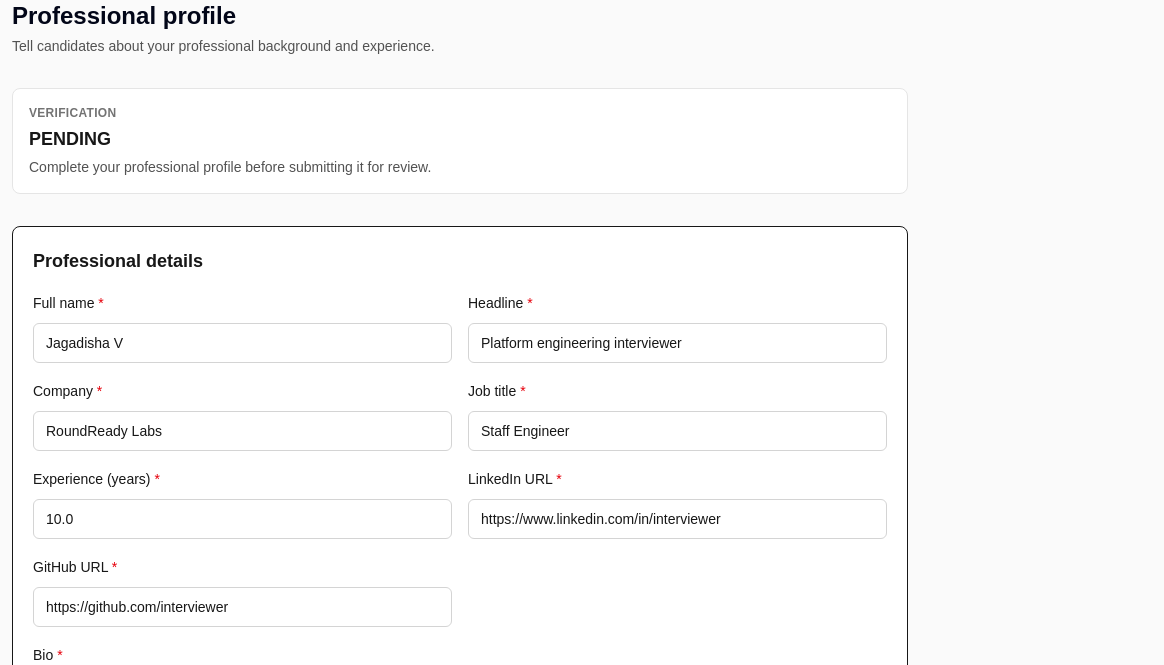
Test: InterviewerWorkspace › preserves profile input after an API error
The width and height of the screenshot is (1164, 665).
Replace the text in the field labelled "Headline" with "Keep this value" at (678, 343), box [468, 323, 887, 363]
(page scrolled)
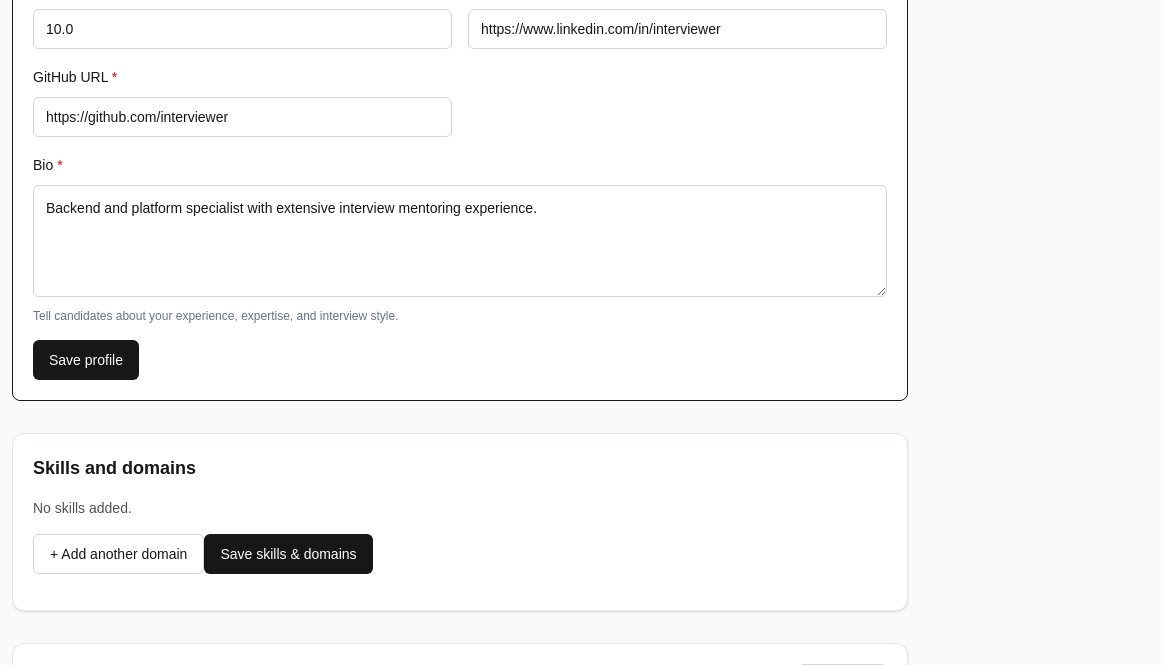
Click the button "Save profile" at (86, 360), box [33, 340, 139, 380]
(page scrolled)
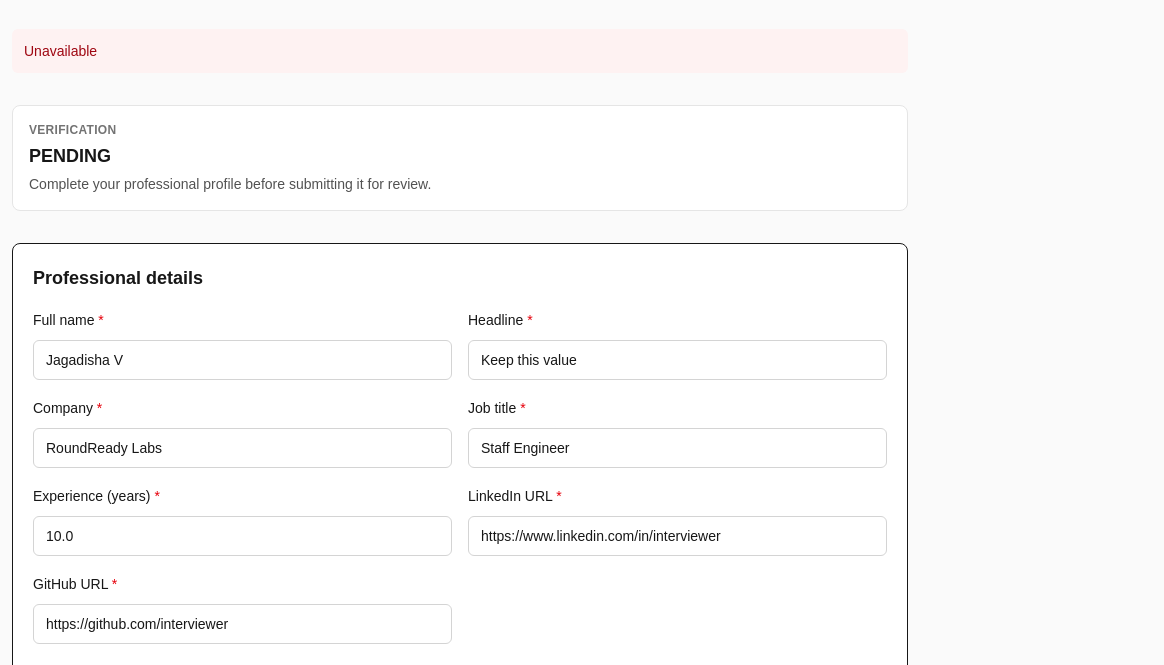
Result: the message reads "Unavailable" at [24, 43, 97, 59]
